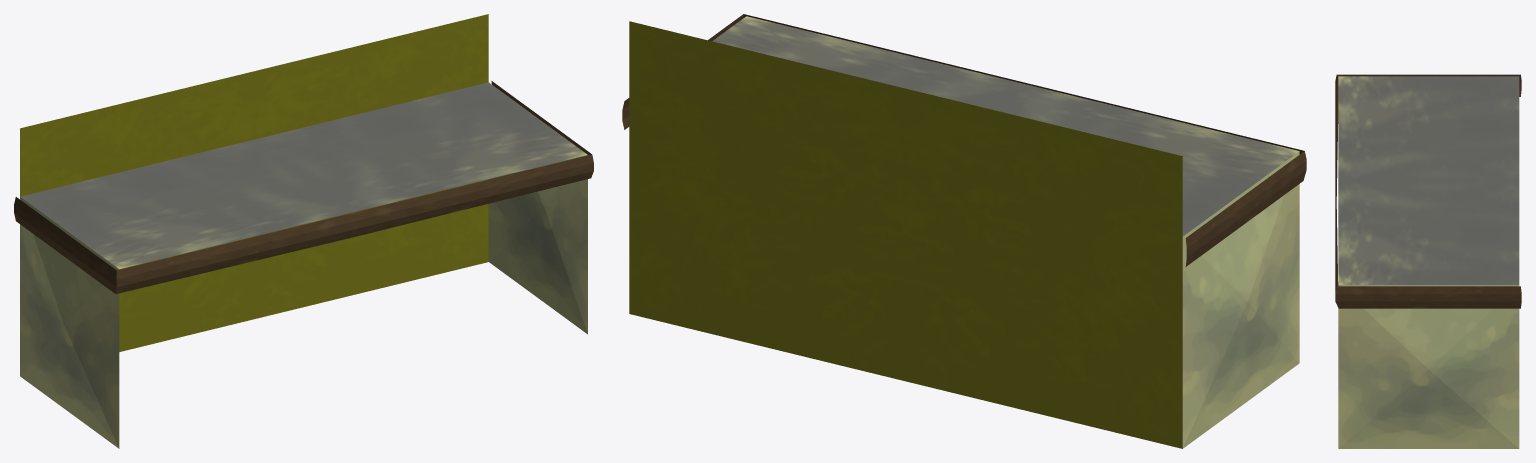
The model's file is Desk.glb.
3 views of the same model, side by side, from view 1: azimuth 30°, elevation 25°; view 2: azimuth 150°, elevation 25°; view 3: azimuth 270°, elevation 25° (orthographic). The views are drawn at different scales.
Visible parts, largest first — view 1: desk; view 2: desk; view 3: desk.
Part boxes in pixels (left/top/right/bottom): desk: left=14, top=14, right=593, bottom=448; desk: left=622, top=14, right=1306, bottom=448; desk: left=1335, top=74, right=1521, bottom=448.
Size of the model in its own units: 2.8 by 1.38 by 1.03.
Materials: 1 (1 with a texture image).
